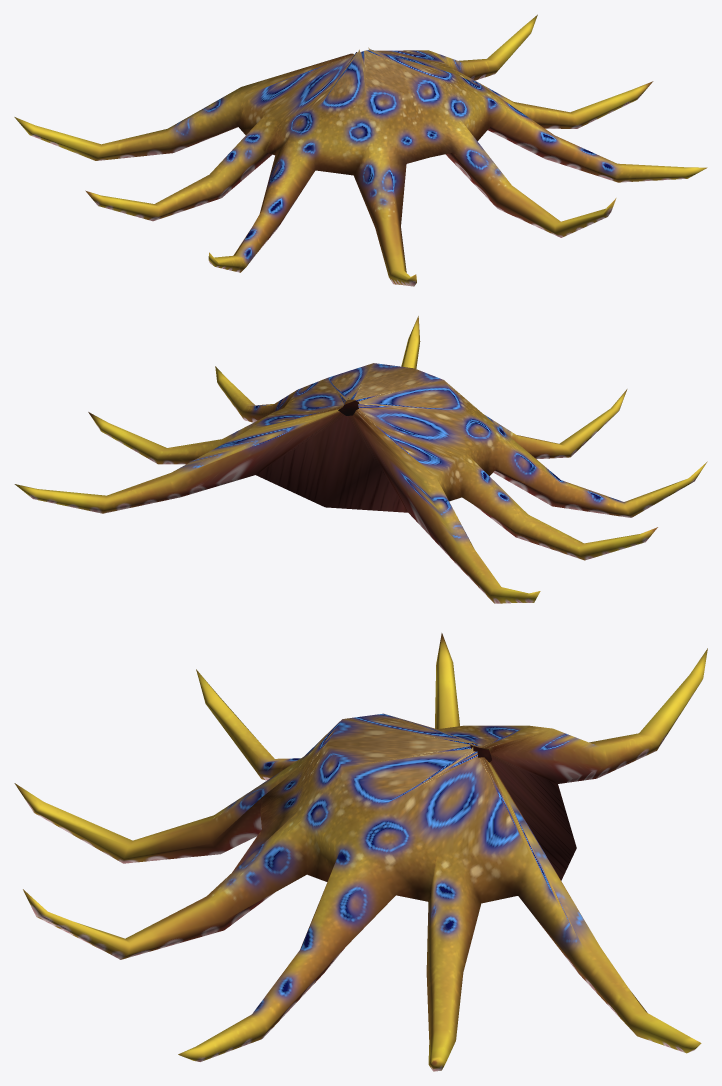
File: occtopess.fbx
The picture shows the model from 3 angles, top to bottom: view 1: azimuth 30°, elevation 25°; view 2: azimuth 150°, elevation 25°; view 3: azimuth 270°, elevation 25°; orthographic projection. The views are drawn at different scales.
Parts seen in each view (by area): view 1: pCylinder4; view 2: pCylinder4; view 3: pCylinder4.
Part boxes in pixels (<box>): pCylinder4: <box>14,14,707,286</box>; pCylinder4: <box>14,316,707,603</box>; pCylinder4: <box>14,633,707,1071</box>.
Size of the model in its own units: 418 by 89.12 by 312.
1 material, 1 textured.
